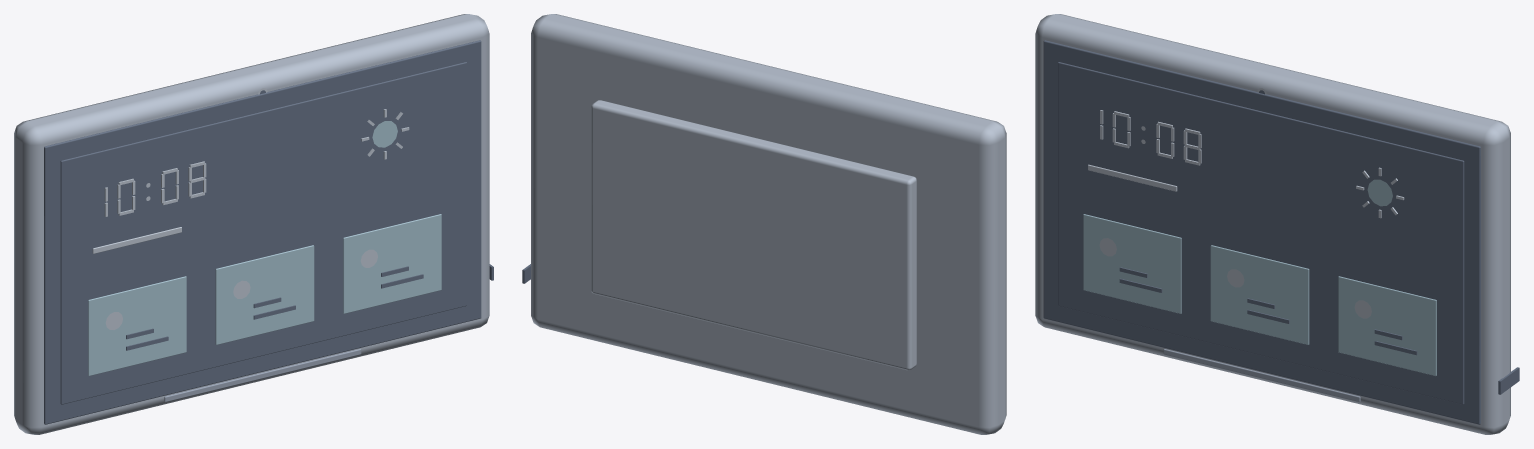
The model's file is smart-display-wall-lite.glb.
The picture shows the model from 3 angles, left to right: view 1: azimuth 30°, elevation 25°; view 2: azimuth 150°, elevation 25°; view 3: azimuth 330°, elevation 25°; orthographic projection.
Parts seen in each view (by area): view 1: smart-display-screen, smart-display-body, smart-display-ui, smart-display-icon, smart-display-speaker; view 2: smart-display-body; view 3: smart-display-screen, smart-display-body, smart-display-ui, smart-display-icon, smart-display-speaker.
Boxes of the visible parts, x1,y1,x2,y2 form: smart-display-screen: (44,40,493,424); smart-display-body: (14,14,489,434); smart-display-ui: (88,121,441,375); smart-display-icon: (92,88,409,329); smart-display-speaker: (164,349,361,402); smart-display-body: (531,14,1006,434); smart-display-screen: (1043,40,1519,424); smart-display-body: (1035,14,1510,434); smart-display-ui: (1083,179,1436,375); smart-display-icon: (1088,88,1404,318); smart-display-speaker: (1163,349,1360,402).
Bounding box in the file's own units: 0.2569 × 0.162 × 0.0315.
